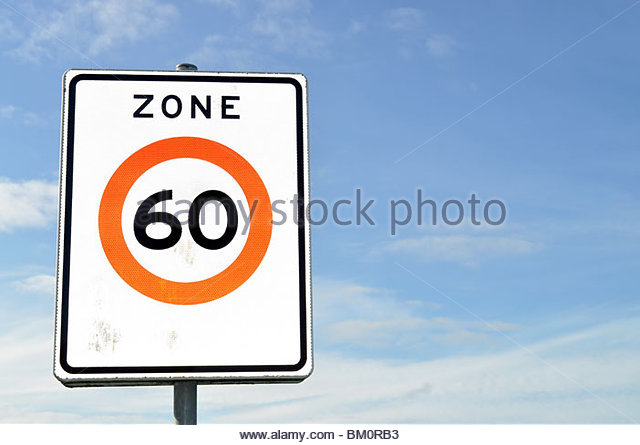Speed_limit_60km: (95, 136, 274, 306)
